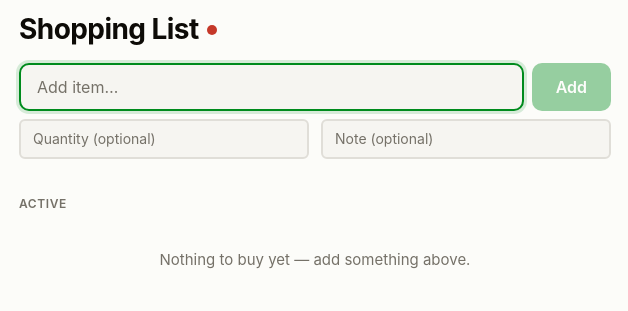
Task 4 — Add and display items › AC1: type in input + Enter adds item and shows in active list
Type "Toothpaste" into the field named "item name". click: {"x": 271, "y": 87}
box: [19,63,524,111]
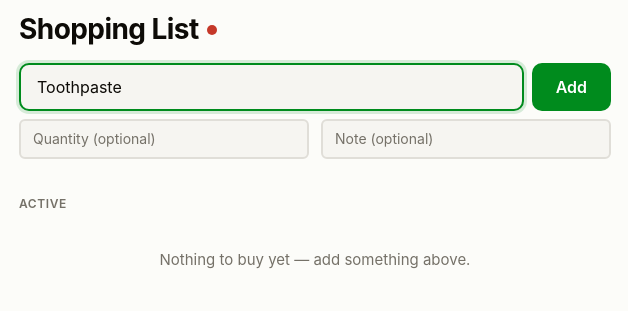
Press Enter
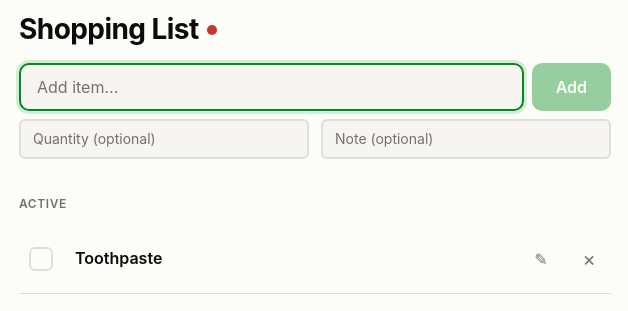
Check: the text "Toothpaste" is shown, box [75,248,162,268]
